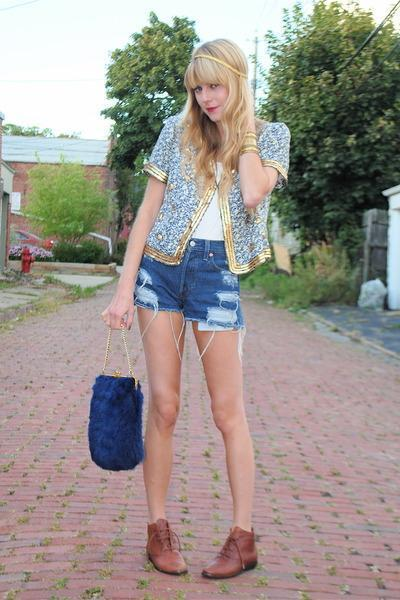bag: (88, 375, 143, 470)
jacket: (140, 108, 290, 273)
shirt: (190, 190, 229, 239)
shoe: (144, 519, 261, 581)
shorts: (133, 239, 242, 330)
